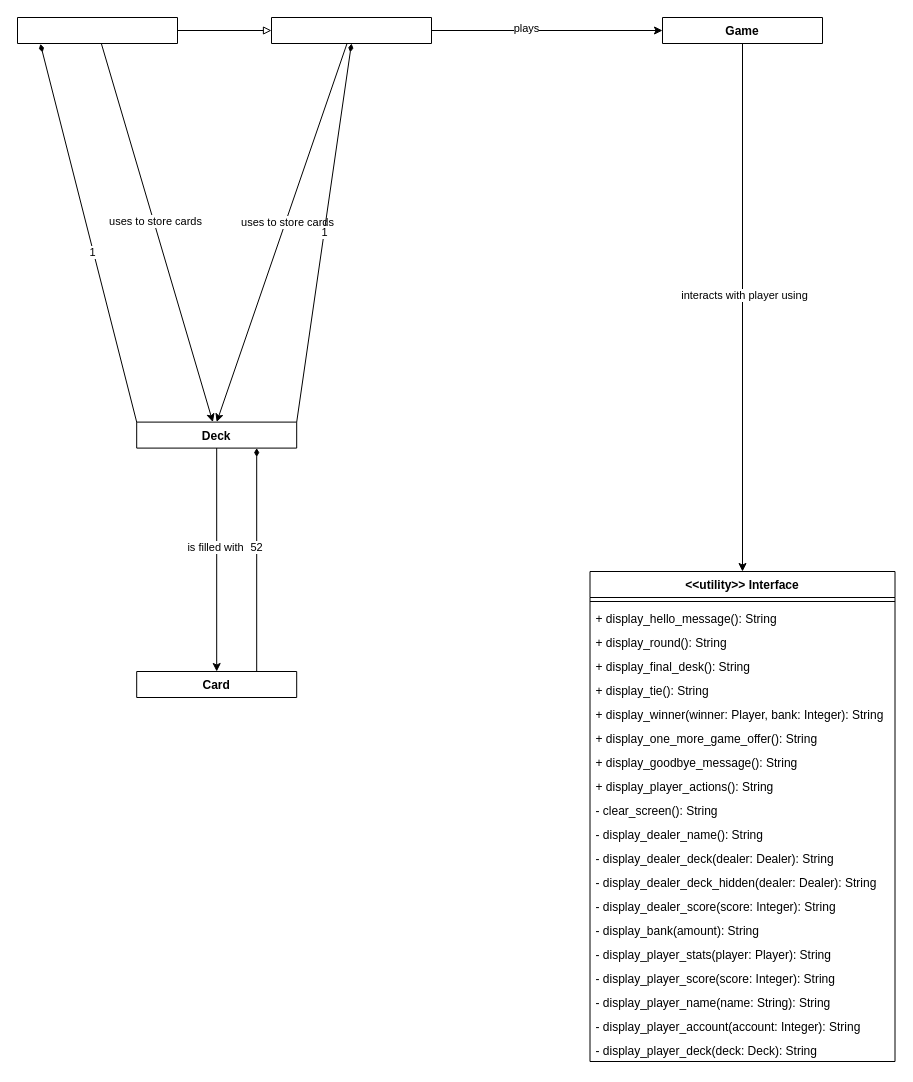
This 913x1082 diagram has some shape labels left out. The shapes that lost their labels are listed below. From the top down, each one's centre as x and y in pixels, then its label:
At (x=97, y=30): "Dealer".
At (x=351, y=30): "Player".
